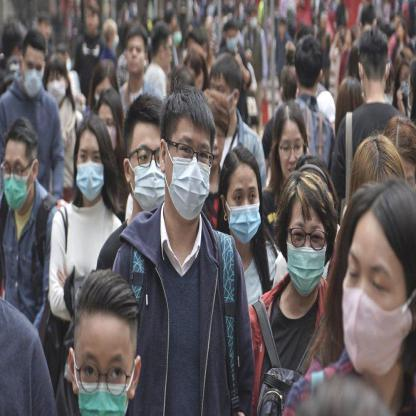without_mask: (277, 129, 306, 177), (124, 37, 147, 73)
